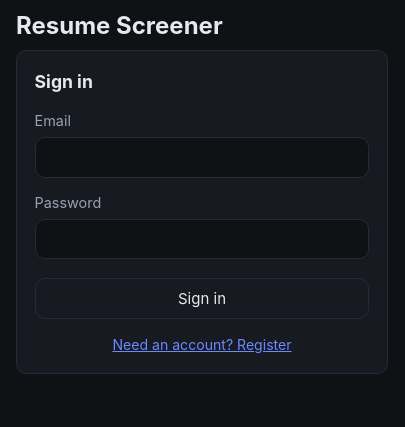
Test case: LoginPage › surfaces validation details from the server
Type "me@example.com" into the field labelled "Email". click: (202, 158)
box: [35,137,369,178]
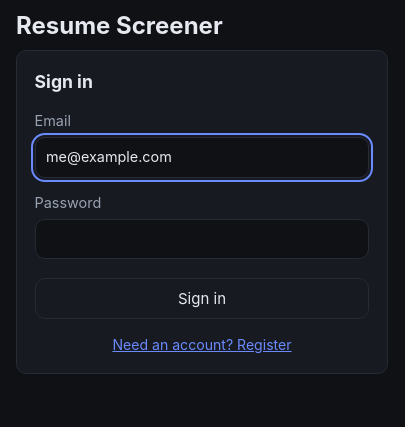
Type "devpassword" into the password field labelled "Password". click: (202, 239)
box: [35,219,369,260]
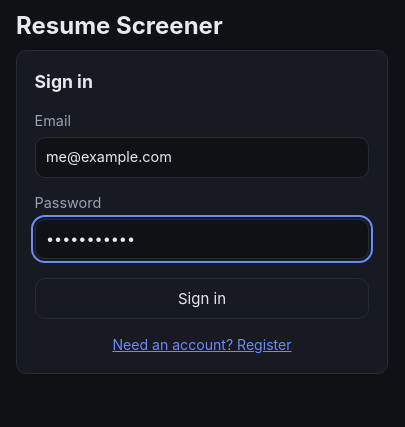
Click the button "Sign in". click: click(202, 299)
box: [35,278,369,319]
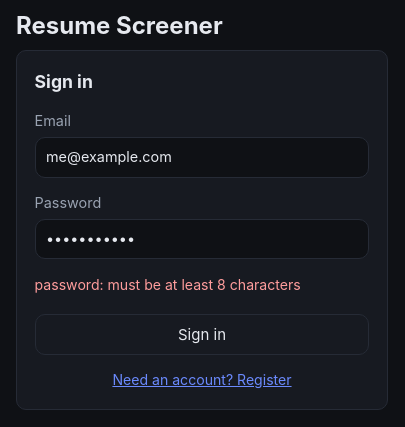
Expected: the message shows "at least 8 characters", [35,276,301,293]
